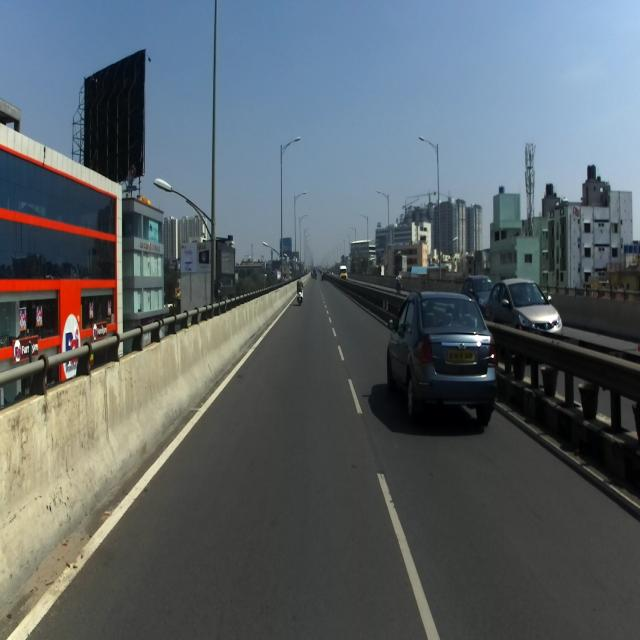car ahead at: (389, 283, 496, 434)
